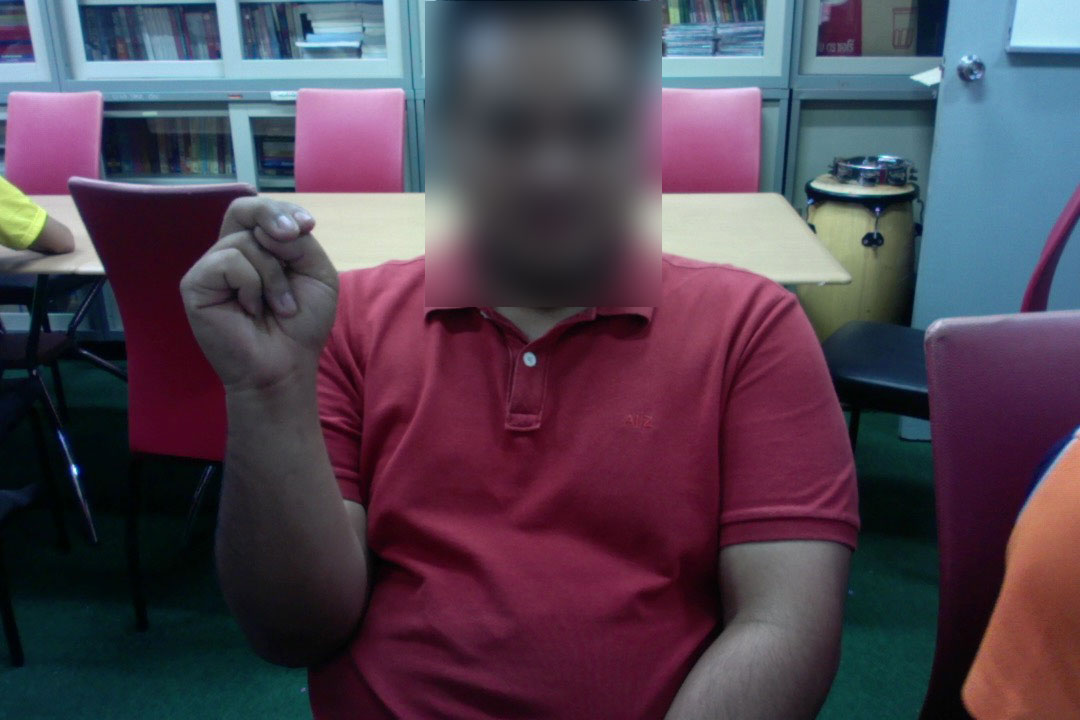nor: (172, 191, 345, 398)
